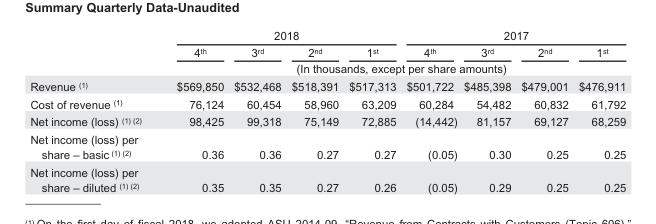table: (29, 28, 625, 193)
table column: (29, 28, 158, 193), (158, 28, 228, 193), (400, 28, 459, 193), (285, 28, 343, 193), (228, 28, 285, 193), (343, 28, 400, 193), (515, 28, 572, 193), (459, 28, 515, 193), (572, 28, 625, 193)
table column header: (29, 28, 625, 77)
table row: (29, 130, 625, 162), (29, 162, 625, 193), (29, 59, 625, 77), (29, 94, 625, 112), (29, 112, 625, 130), (29, 77, 625, 94), (29, 43, 625, 59), (29, 28, 625, 43)
table spanning cell: (158, 59, 625, 77), (158, 28, 400, 43), (400, 28, 625, 43)
